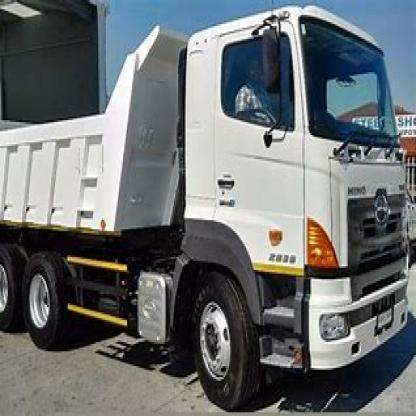dump_truck: (3, 2, 414, 401)
